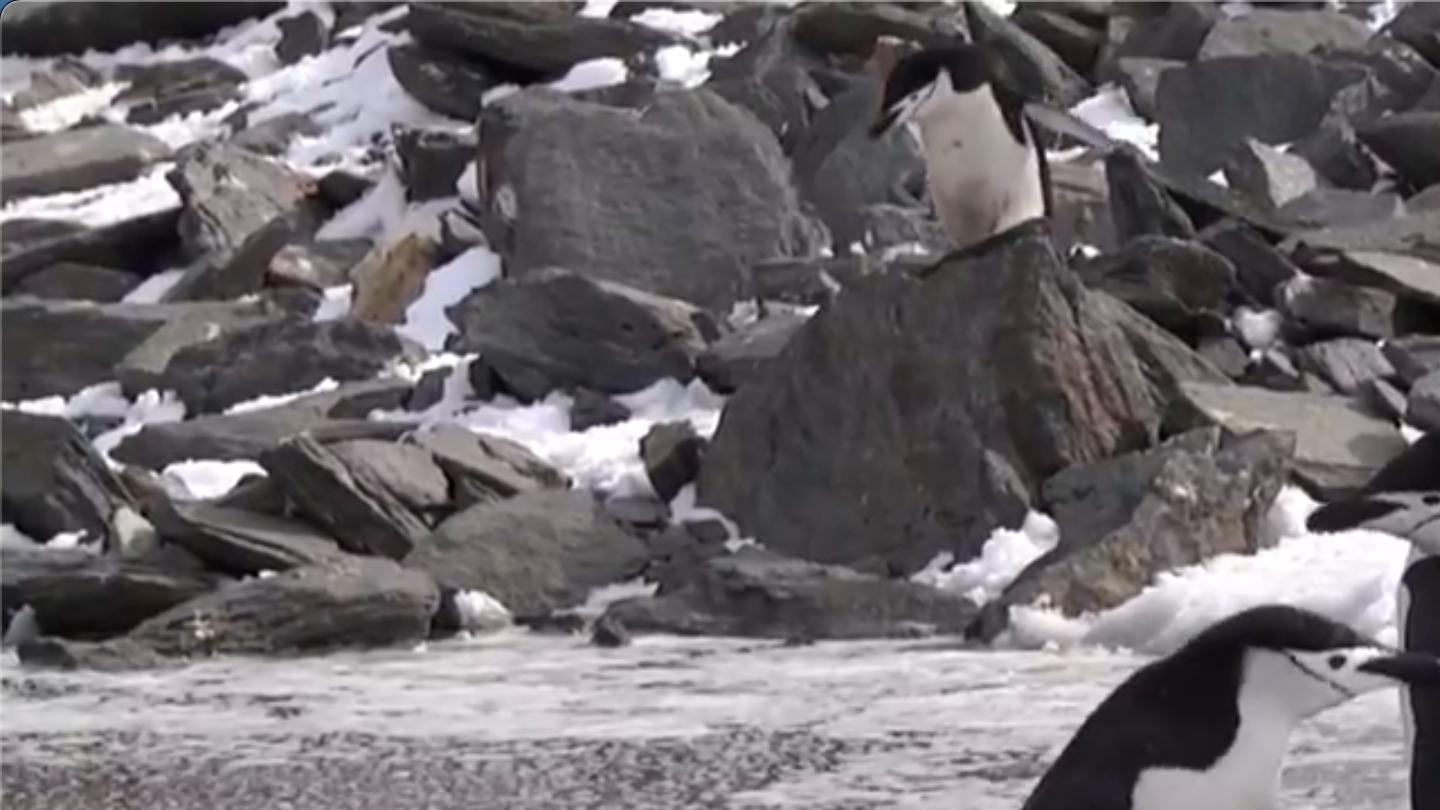Chinstrap Penguin: (925, 610, 1440, 810), (843, 33, 1097, 280), (1296, 410, 1440, 571)
